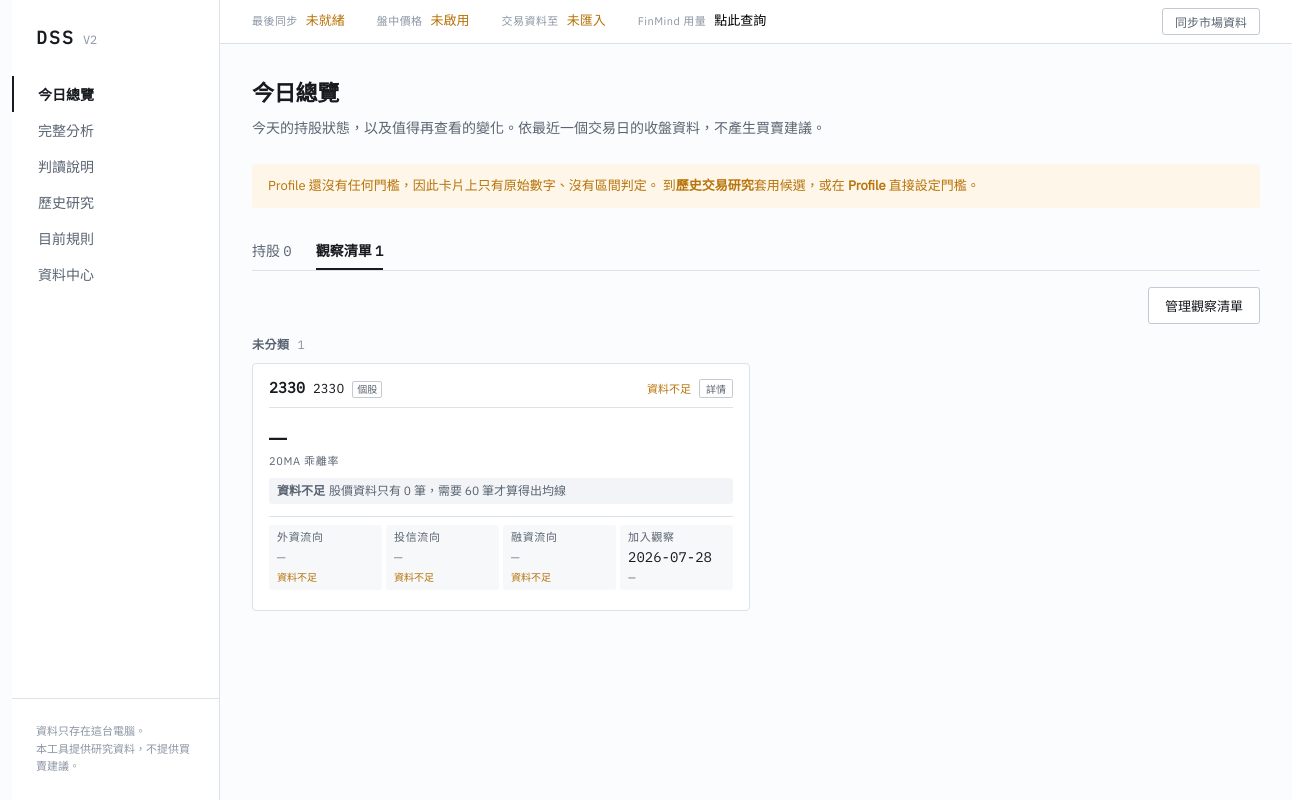
Test case: AppShell › 觀察標的只有代號時，同步會把名稱補回來
Click the button "同步市場資料" at (1211, 22), box [1162, 8, 1260, 35]
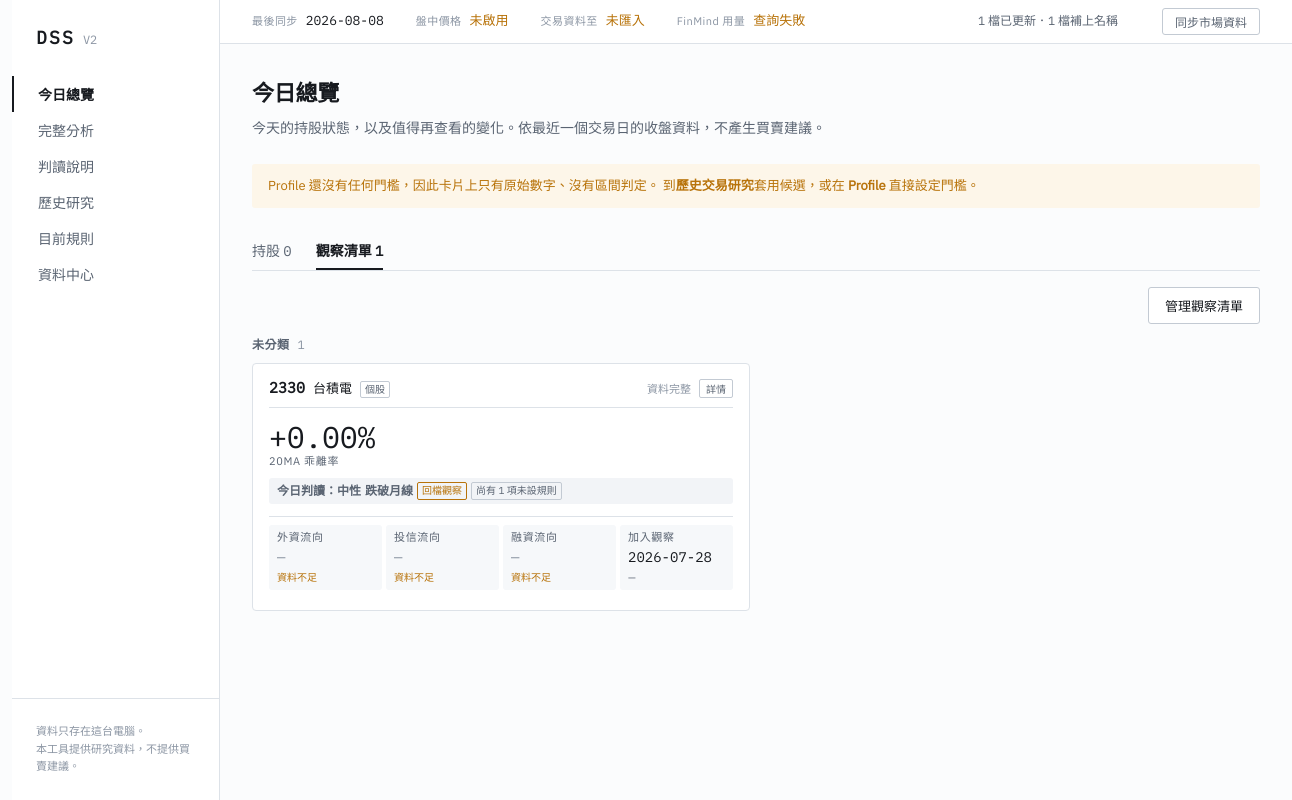
Expected: the text "台積電" is shown, [313, 378, 352, 399]
